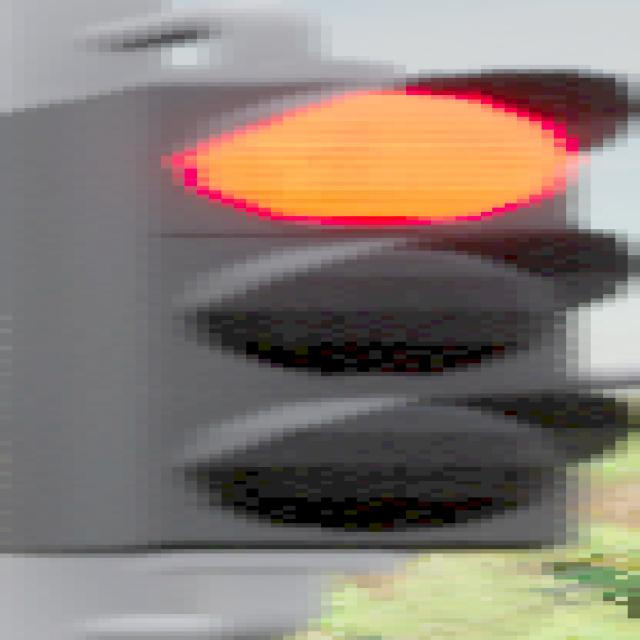red_light: (0, 52, 640, 566)
